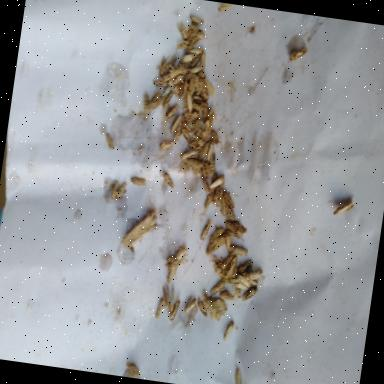pbw: (146, 88, 164, 113), (158, 54, 176, 78), (162, 64, 184, 83), (174, 50, 197, 66), (170, 243, 186, 266), (289, 44, 308, 63), (240, 284, 258, 304), (224, 219, 244, 236), (196, 76, 210, 100), (208, 255, 224, 276), (236, 258, 254, 276), (160, 170, 178, 188), (194, 297, 210, 317), (210, 278, 226, 298), (208, 226, 224, 246), (218, 252, 234, 272), (234, 272, 254, 288), (165, 260, 177, 286), (220, 190, 237, 208), (174, 21, 190, 40), (167, 72, 186, 88), (226, 255, 238, 280), (168, 297, 180, 322), (220, 320, 234, 341), (186, 29, 204, 45), (170, 38, 190, 52), (180, 82, 190, 110), (186, 22, 200, 42), (124, 360, 141, 376), (182, 109, 200, 124), (243, 268, 262, 282), (188, 51, 202, 70), (223, 230, 245, 242), (167, 283, 176, 312), (208, 174, 224, 190), (200, 218, 211, 241), (222, 202, 236, 220), (159, 285, 170, 307), (192, 119, 204, 139), (198, 140, 210, 160), (114, 180, 126, 200), (170, 114, 182, 134), (184, 296, 197, 314), (140, 92, 150, 115), (184, 90, 194, 113), (219, 195, 229, 218), (177, 127, 192, 142), (222, 233, 232, 255), (228, 245, 248, 256), (104, 132, 116, 150), (205, 107, 215, 128), (165, 103, 179, 118), (154, 298, 164, 319), (200, 289, 210, 310), (162, 89, 173, 108), (159, 138, 175, 151), (130, 176, 150, 186), (204, 190, 214, 210), (199, 160, 209, 180), (172, 124, 182, 144), (216, 183, 224, 208), (202, 160, 213, 178), (180, 120, 194, 134), (190, 133, 205, 146), (180, 148, 196, 160), (184, 158, 202, 168), (232, 366, 242, 384), (187, 140, 203, 151), (206, 140, 214, 162), (152, 77, 168, 88), (218, 290, 234, 301), (186, 72, 200, 84), (176, 80, 184, 101), (110, 180, 118, 201), (201, 179, 212, 194), (188, 64, 203, 75), (186, 78, 195, 96), (202, 120, 211, 138), (188, 14, 204, 24), (198, 50, 206, 70), (200, 104, 208, 123), (217, 2, 232, 12), (210, 130, 220, 145), (186, 46, 202, 55), (192, 99, 208, 108), (212, 184, 219, 204), (225, 277, 242, 285), (232, 282, 249, 290), (190, 102, 203, 112), (208, 154, 215, 172), (191, 94, 206, 102)
